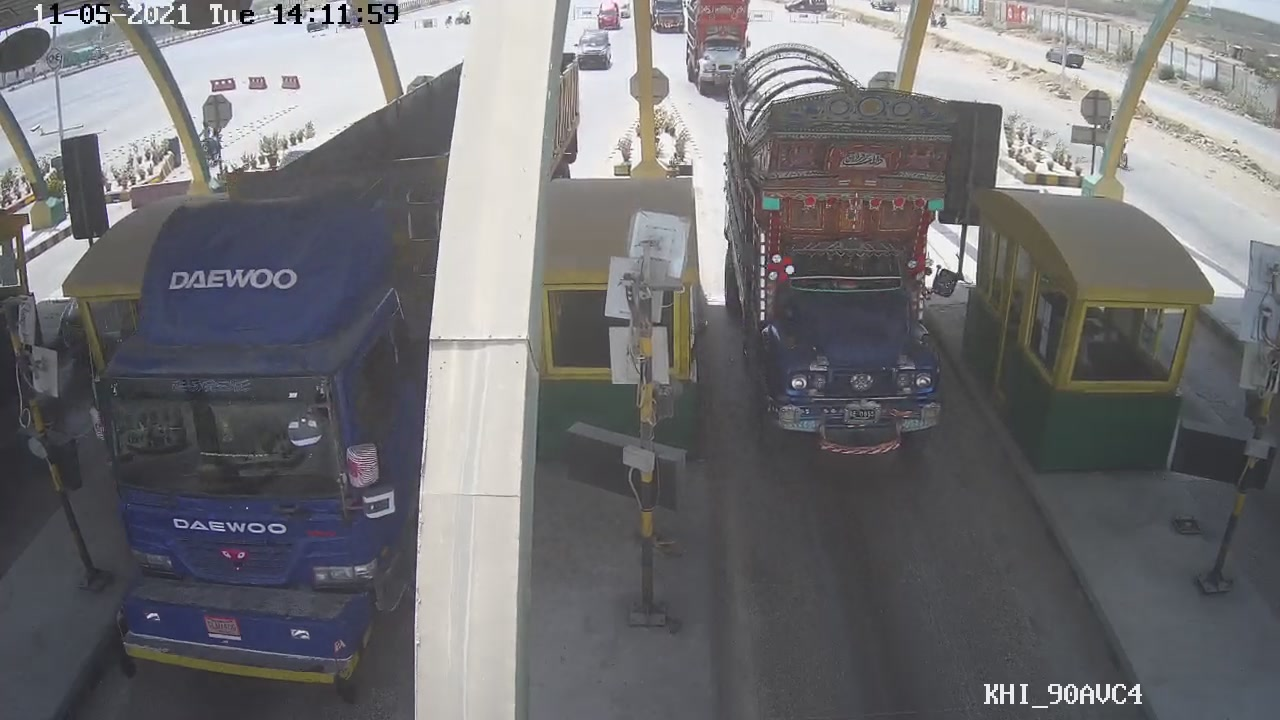F5: (715, 52, 981, 460)
